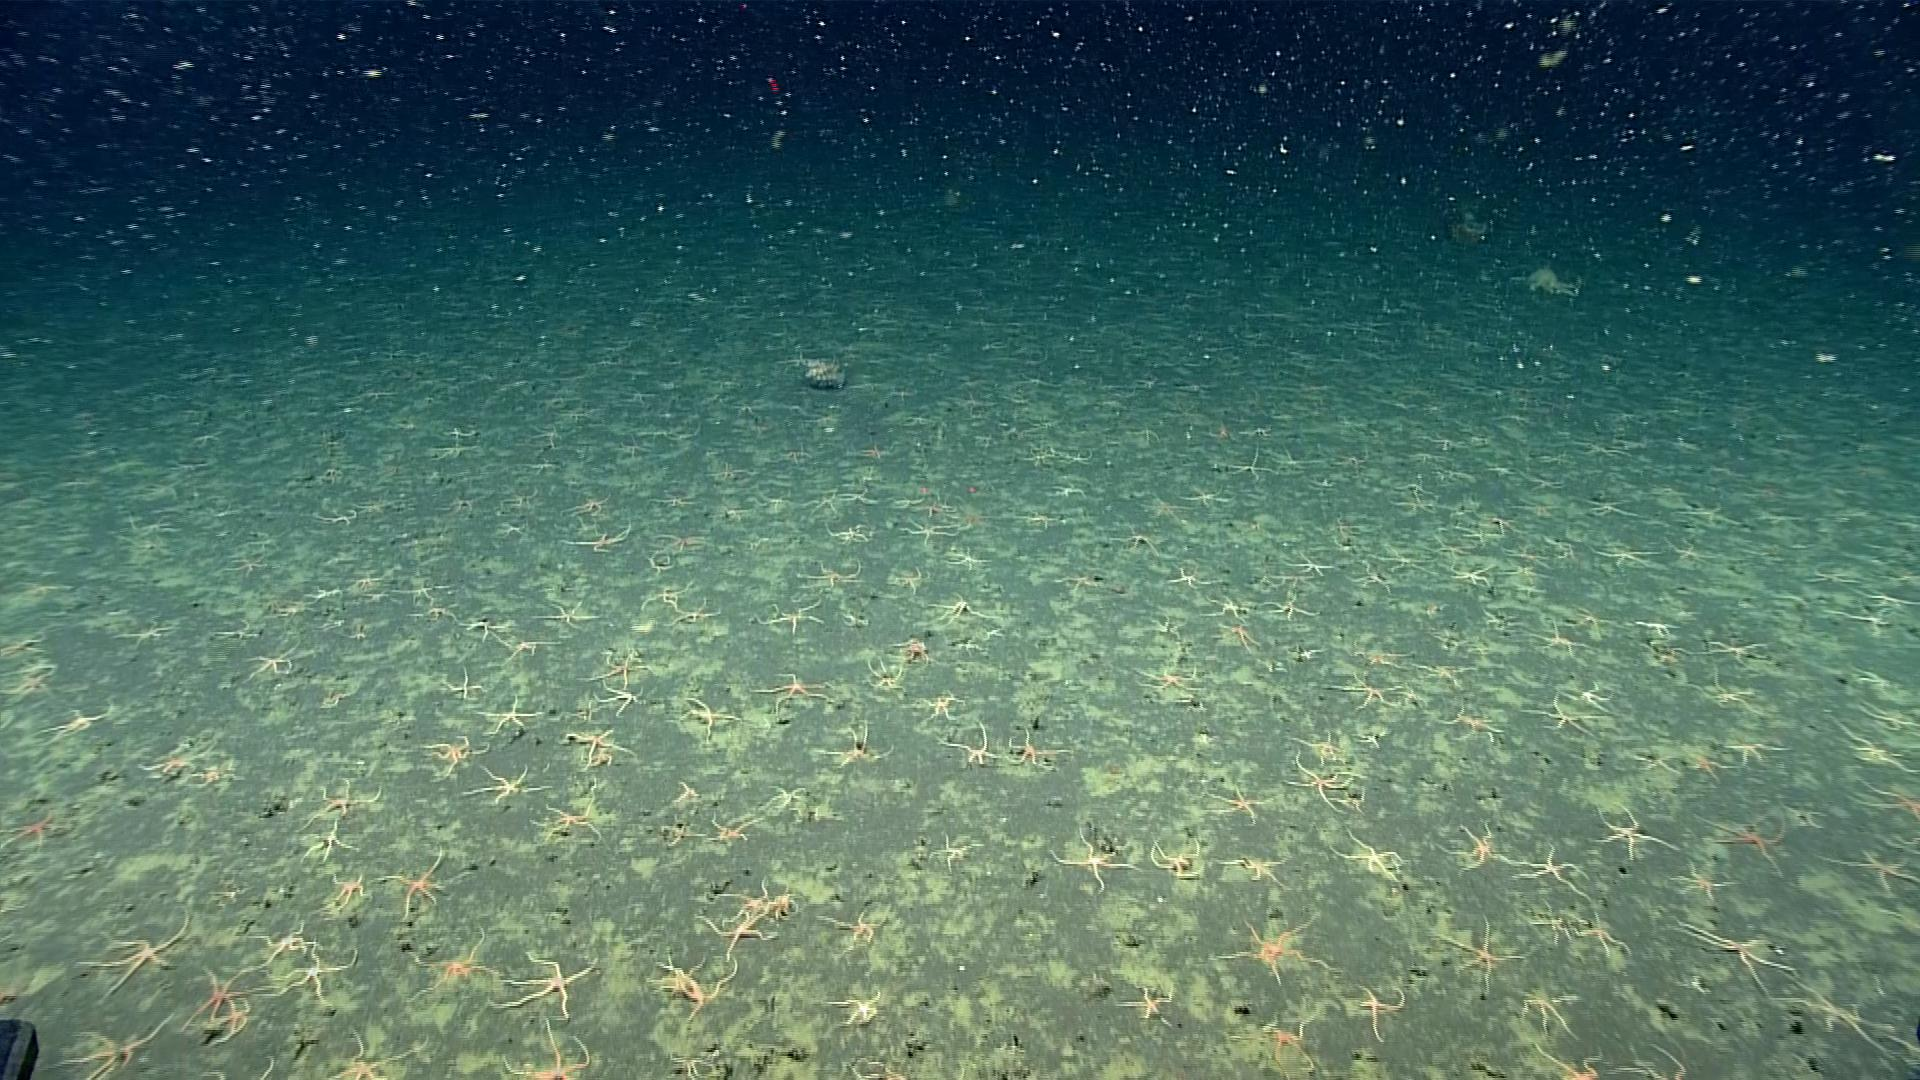brittle_sea_star: (71, 909, 189, 1004), (1767, 972, 1894, 1054), (1208, 914, 1340, 989), (1668, 916, 1797, 993), (44, 1011, 177, 1079), (1427, 913, 1527, 996), (255, 943, 361, 1018), (487, 955, 599, 1022), (407, 922, 497, 1000), (181, 960, 256, 1048), (1048, 825, 1138, 897), (1698, 807, 1788, 877), (319, 1026, 433, 1079), (646, 951, 738, 1015), (1435, 822, 1530, 878), (1503, 841, 1592, 901), (1588, 803, 1680, 860), (1817, 844, 1919, 895), (377, 845, 447, 919), (521, 588, 616, 642), (695, 905, 773, 964), (1282, 748, 1348, 815), (520, 1018, 591, 1079), (812, 720, 894, 771), (462, 761, 550, 807), (1328, 828, 1404, 881), (1519, 691, 1606, 736), (1253, 1019, 1319, 1075), (1683, 667, 1762, 712), (1516, 989, 1586, 1039), (417, 733, 488, 782), (663, 698, 738, 744), (531, 794, 603, 841), (1323, 670, 1407, 709), (723, 880, 799, 923), (934, 720, 1000, 770), (1847, 779, 1919, 824), (1, 806, 73, 851), (1665, 861, 1738, 905), (1569, 913, 1634, 961), (560, 725, 632, 769), (753, 673, 828, 713), (816, 907, 880, 955), (1354, 985, 1406, 1042), (473, 696, 542, 738), (256, 918, 314, 967), (38, 705, 115, 742), (1209, 853, 1287, 889), (318, 775, 382, 818), (297, 818, 357, 862), (1435, 700, 1503, 740), (1524, 897, 1576, 947), (1522, 620, 1588, 658), (1002, 731, 1065, 770), (1116, 988, 1175, 1030), (113, 615, 179, 651), (1146, 836, 1200, 881), (753, 600, 824, 633), (1528, 1040, 1588, 1079), (138, 741, 198, 779), (753, 779, 816, 815), (1204, 786, 1261, 825), (556, 525, 625, 556), (579, 650, 642, 684), (927, 832, 980, 873), (1627, 1042, 1684, 1079), (1, 659, 54, 699), (827, 990, 882, 1027), (1133, 663, 1197, 695), (1822, 604, 1891, 633), (910, 690, 961, 728), (1295, 725, 1352, 760), (394, 576, 460, 605), (796, 559, 861, 588), (1204, 620, 1259, 653), (591, 674, 644, 708), (220, 545, 270, 580), (653, 596, 713, 625), (1565, 676, 1613, 713), (860, 654, 905, 691), (1154, 566, 1216, 592), (1280, 549, 1331, 579), (1725, 738, 1784, 764), (1700, 634, 1766, 657), (927, 596, 980, 624), (1262, 592, 1313, 620), (186, 762, 241, 787), (500, 633, 555, 658), (330, 870, 368, 906), (249, 647, 295, 676), (1441, 560, 1491, 587), (704, 819, 749, 848), (851, 1058, 911, 1079), (463, 615, 509, 642), (1203, 593, 1247, 621), (942, 547, 984, 575), (345, 566, 388, 593), (232, 1054, 278, 1079), (448, 667, 481, 700), (415, 601, 460, 625), (1689, 754, 1727, 782), (657, 819, 695, 847), (0, 964, 26, 1002), (1887, 1023, 1919, 1054), (894, 638, 928, 663), (667, 779, 699, 806), (302, 582, 342, 603), (270, 600, 306, 618)
